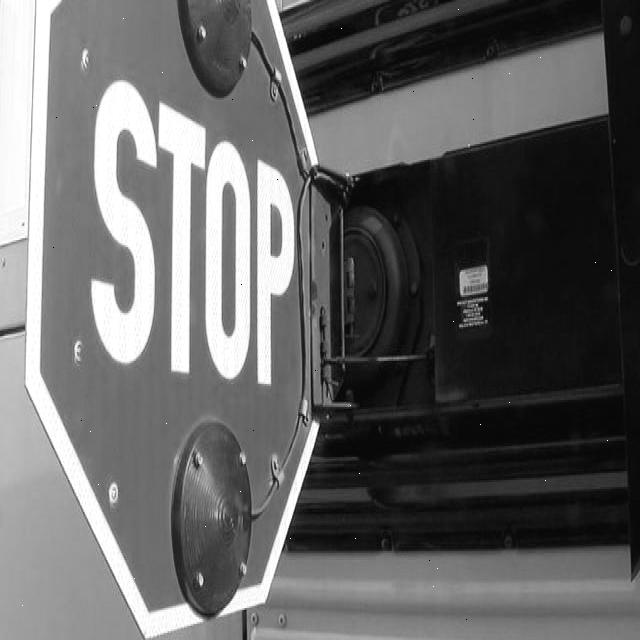Stop-sign: (0, 0, 341, 624)
